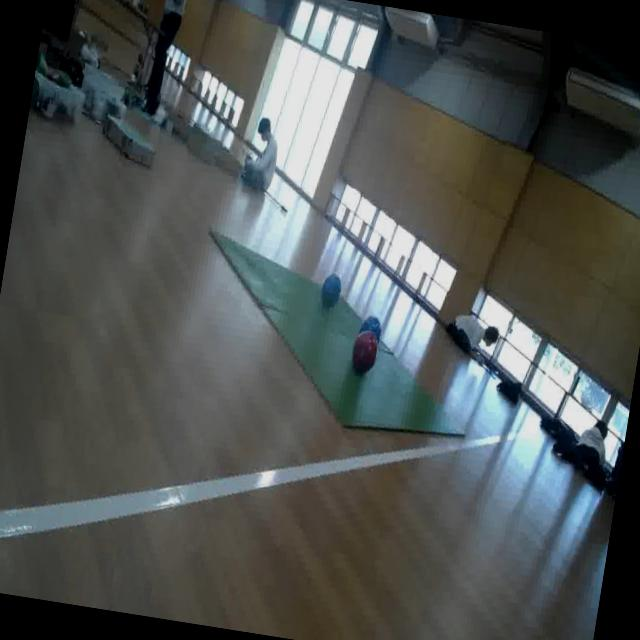blue_ball: (317, 269, 346, 314), (357, 312, 386, 346)
red_ball: (347, 328, 382, 379)
